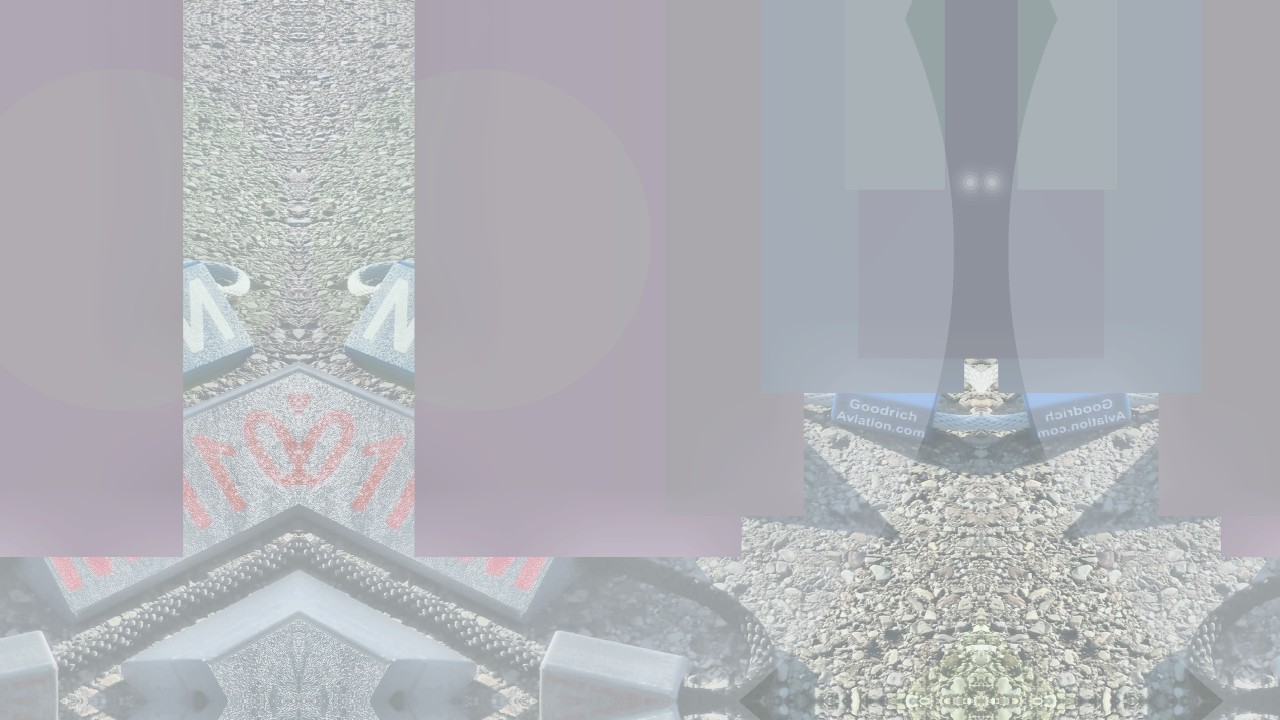chock: (335, 257, 764, 494), (301, 361, 643, 631), (0, 361, 296, 631), (476, 200, 855, 390), (0, 257, 262, 494), (585, 150, 922, 316), (672, 104, 980, 247), (982, 104, 1280, 247), (1041, 150, 1280, 316), (1107, 200, 1280, 390), (981, 68, 1221, 188), (742, 68, 981, 188), (121, 569, 298, 701), (300, 569, 476, 701), (0, 200, 121, 390), (1199, 257, 1280, 494), (981, 39, 1160, 118), (803, 39, 981, 118), (121, 701, 298, 720), (300, 701, 476, 720)
